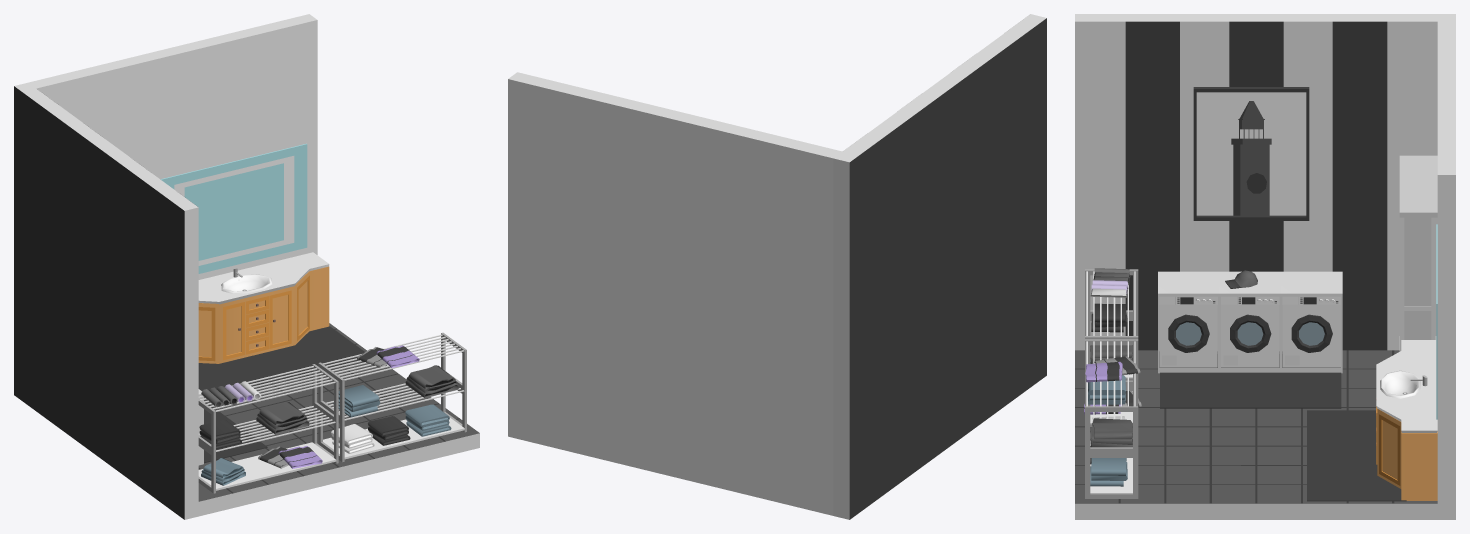
File: room_4.glb
3 views of the same model, side by side, from view 1: azimuth 30°, elevation 25°; view 2: azimuth 150°, elevation 25°; view 3: azimuth 270°, elevation 25° (orthographic). The views are drawn at different scales.
Parts seen in each view (by area): view 1: Walls_011.013, Walls_006.015, picture_028.001, bathroom_item_024.001, floor_009.001, shelf_066.001, Walls_011.001, shelf_066.002, Walls_040.001, clothes_002.001, clothes_002.002, clothes_024.001 (+9 smaller); view 2: Walls_006.015, Walls_011.013; view 3: Walls_011.013, wall_016.003, floor_009.001, picture_001.001, Walls_006.015, bathroom_item_024.001, Walls_011.001, Walls_040.002, Walls_040.001, closet_013.001, bathroom_item_011.001, bathroom_item_011.003 (+10 smaller).
Part boxes in pixels (<box>): Walls_011.013: <box>14,82,198,519</box>; Walls_006.015: <box>28,14,317,279</box>; picture_028.001: <box>160,143,307,273</box>; bathroom_item_024.001: <box>198,252,329,363</box>; floor_009.001: <box>198,323,479,501</box>; shelf_066.001: <box>198,364,338,493</box>; Walls_011.001: <box>198,328,479,516</box>; shelf_066.002: <box>318,332,466,462</box>; Walls_040.001: <box>198,326,364,390</box>; clothes_002.001: <box>256,401,309,434</box>; clothes_002.002: <box>405,365,458,398</box>; clothes_024.001: <box>405,404,451,436</box>; Walls_006.015: <box>508,72,842,515</box>; Walls_011.013: <box>833,14,1046,519</box>; Walls_011.013: <box>1075,14,1455,350</box>; wall_016.003: <box>1075,21,1437,350</box>; floor_009.001: <box>1075,350,1437,503</box>; picture_001.001: <box>1193,87,1309,220</box>; Walls_006.015: <box>1437,21,1455,519</box>; bathroom_item_024.001: <box>1376,340,1437,500</box>; Walls_011.001: <box>1075,350,1437,519</box>; Walls_040.002: <box>1160,354,1341,408</box>; Walls_040.001: <box>1307,410,1406,501</box>; closet_013.001: <box>1399,155,1437,351</box>; bathroom_item_011.001: <box>1281,271,1342,373</box>; bathroom_item_011.003: <box>1158,271,1219,373</box>.
Size of the model in its own units: 4.2 by 4.2 by 4.2.
1 material, 1 textured.
